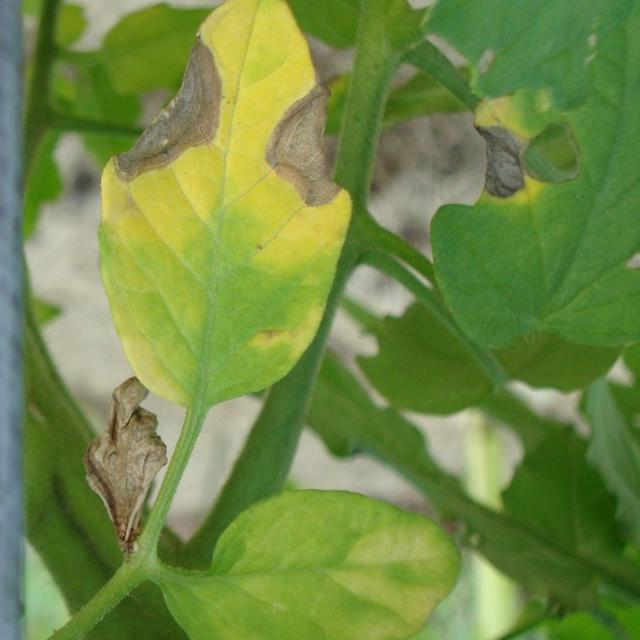Tomato Early blight leaf: (91, 0, 341, 416)
